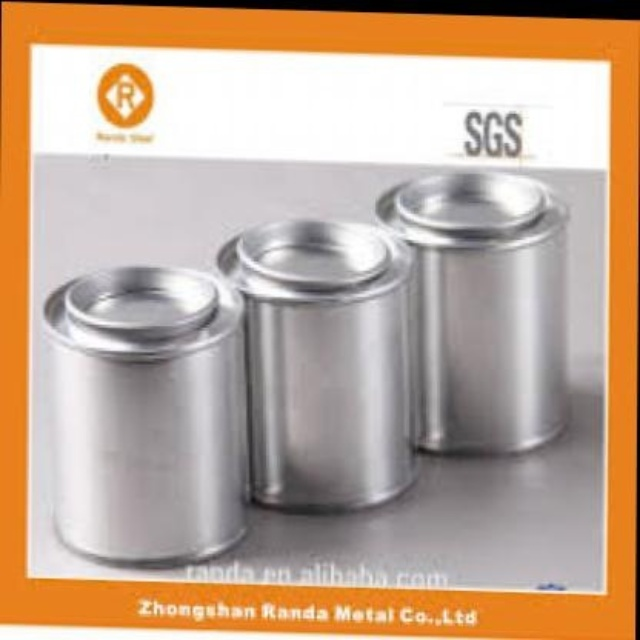trash: (45, 266, 246, 562), (217, 220, 415, 509), (375, 172, 566, 451)
